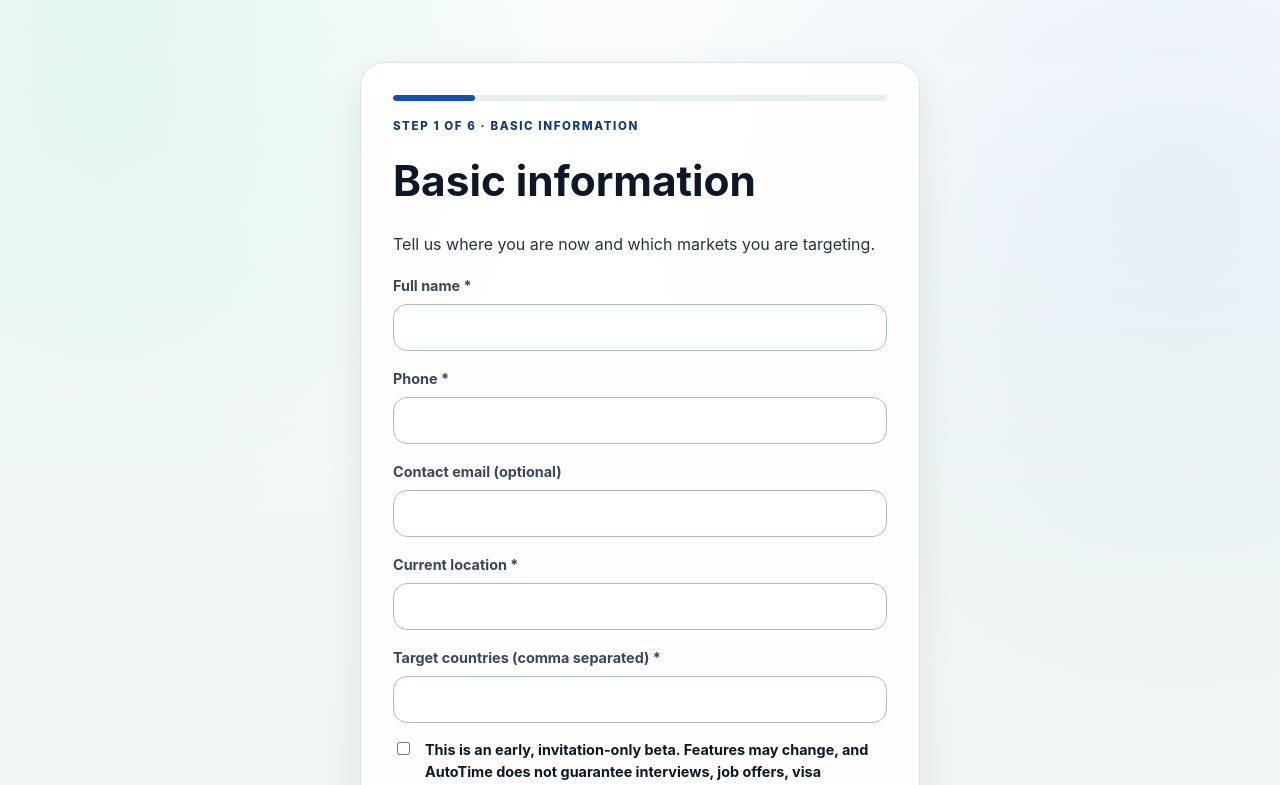
OnboardingWizard - step 0 (basic information + beta terms) › clears the beta-terms error the moment the checkbox is checked
Type "Jane Doe" into the field labelled "Full name *" at (640, 328), box [393, 304, 887, 351]
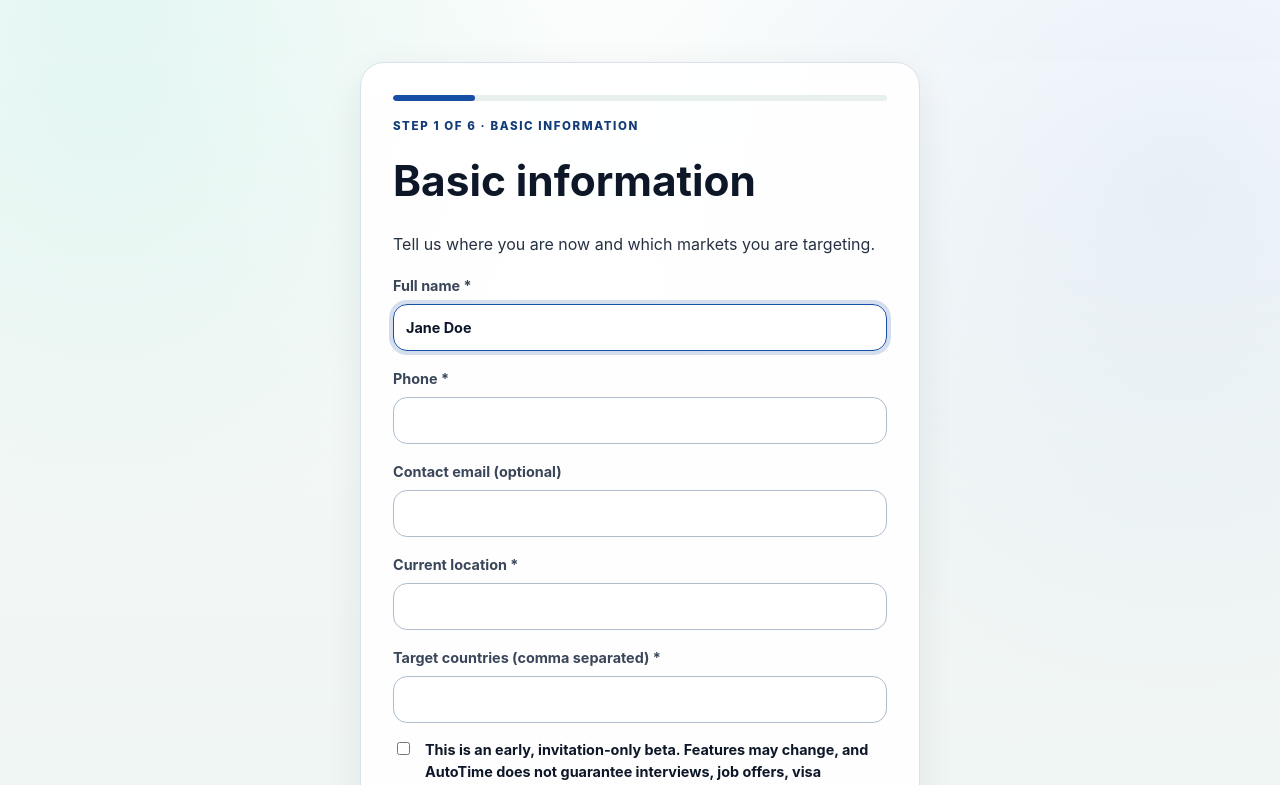
Type "+44 7700 900000" into the field labelled "Phone *" at (640, 421), box [393, 397, 887, 444]
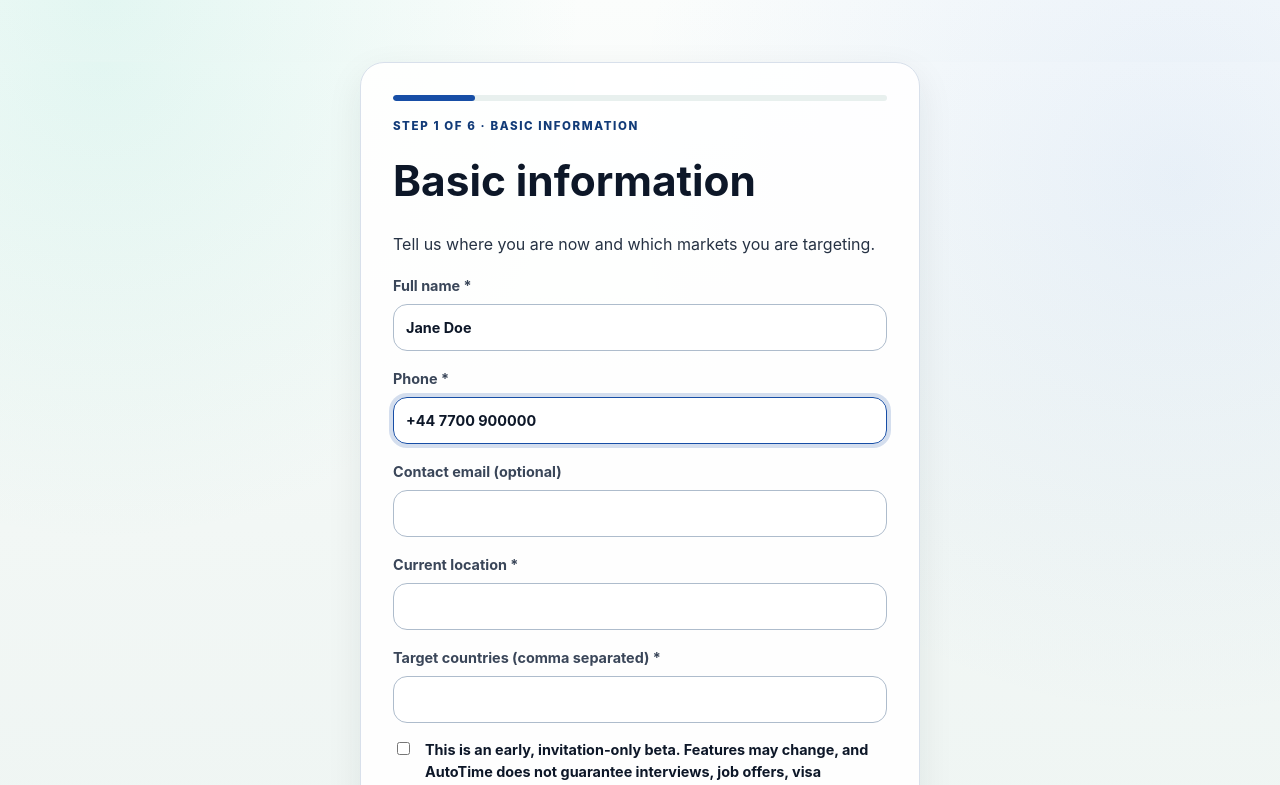
Type "London" into the field labelled "Current location *" at (640, 607), box [393, 583, 887, 630]
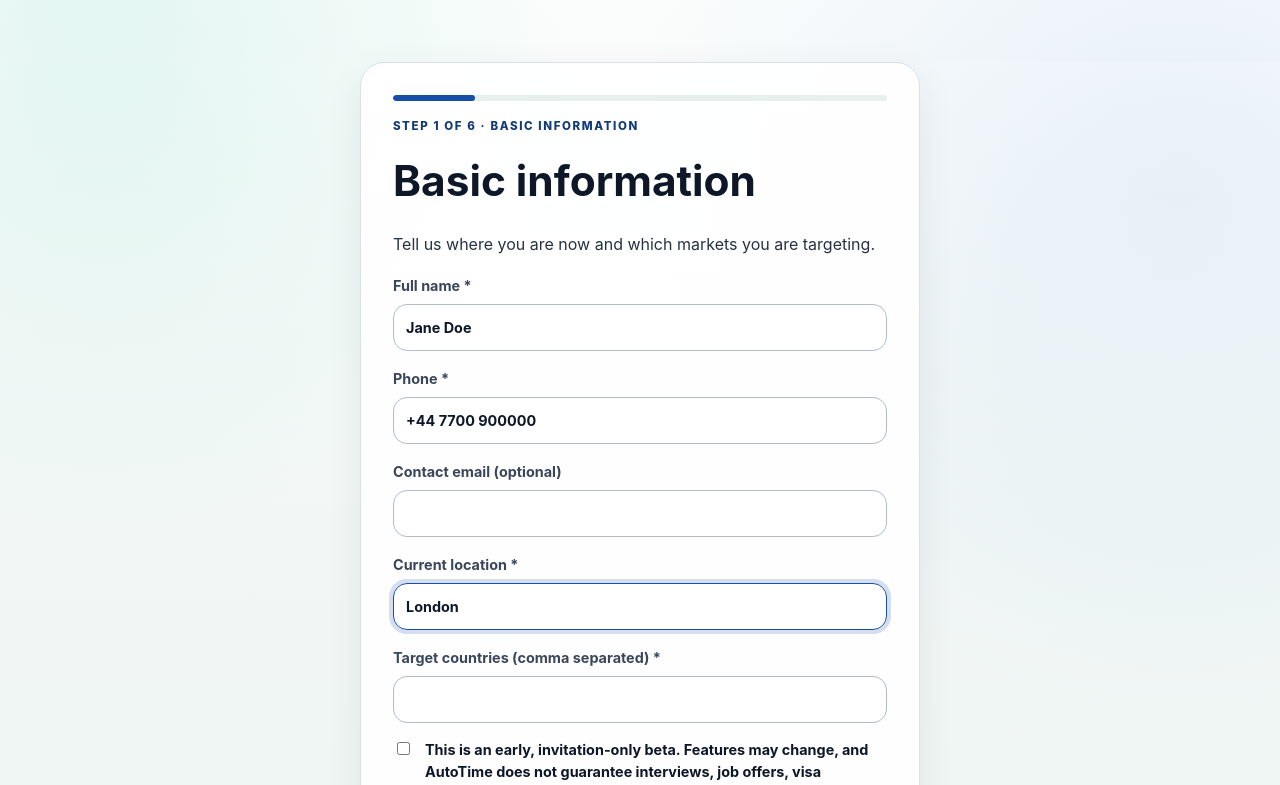
Type "Germany" into the field labelled "Target countries (comma separated) *" at (640, 700), box [393, 676, 887, 723]
(page scrolled)
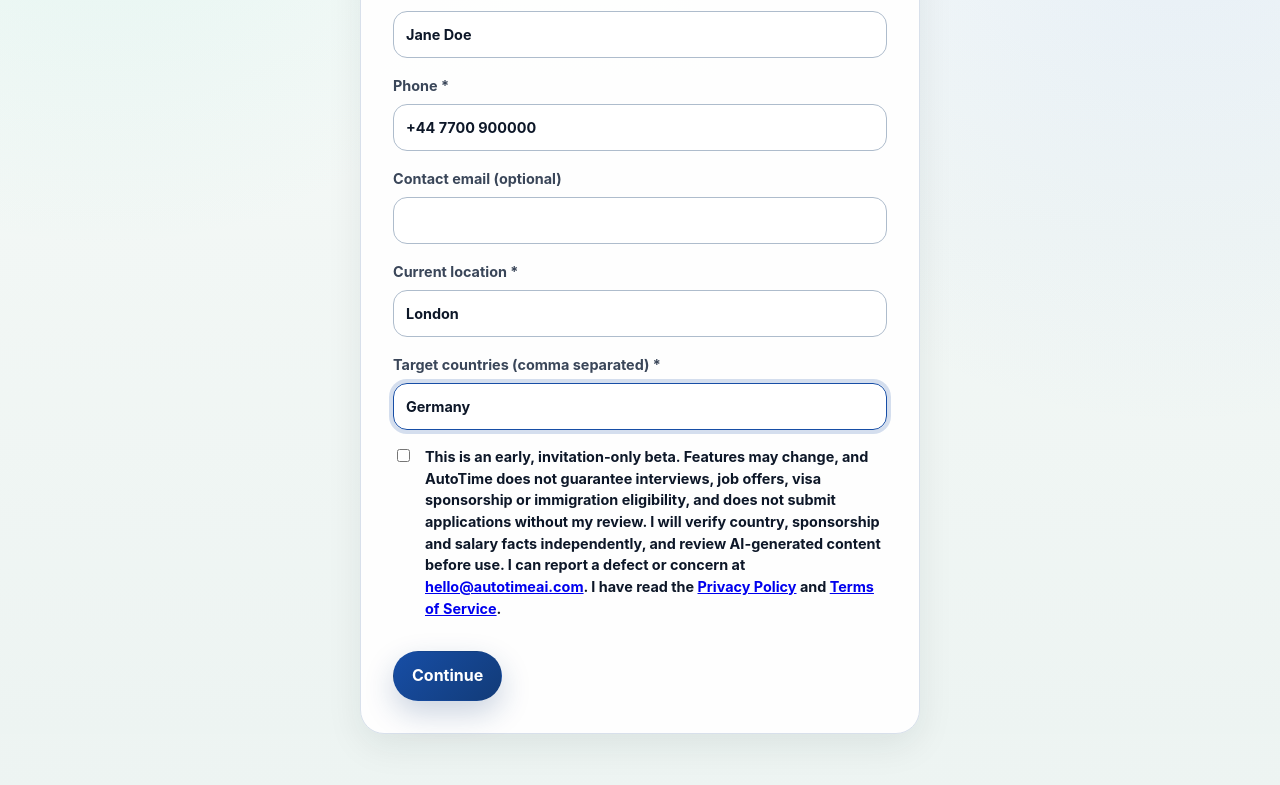
Click the button "Continue" at (448, 676), box [393, 651, 502, 701]
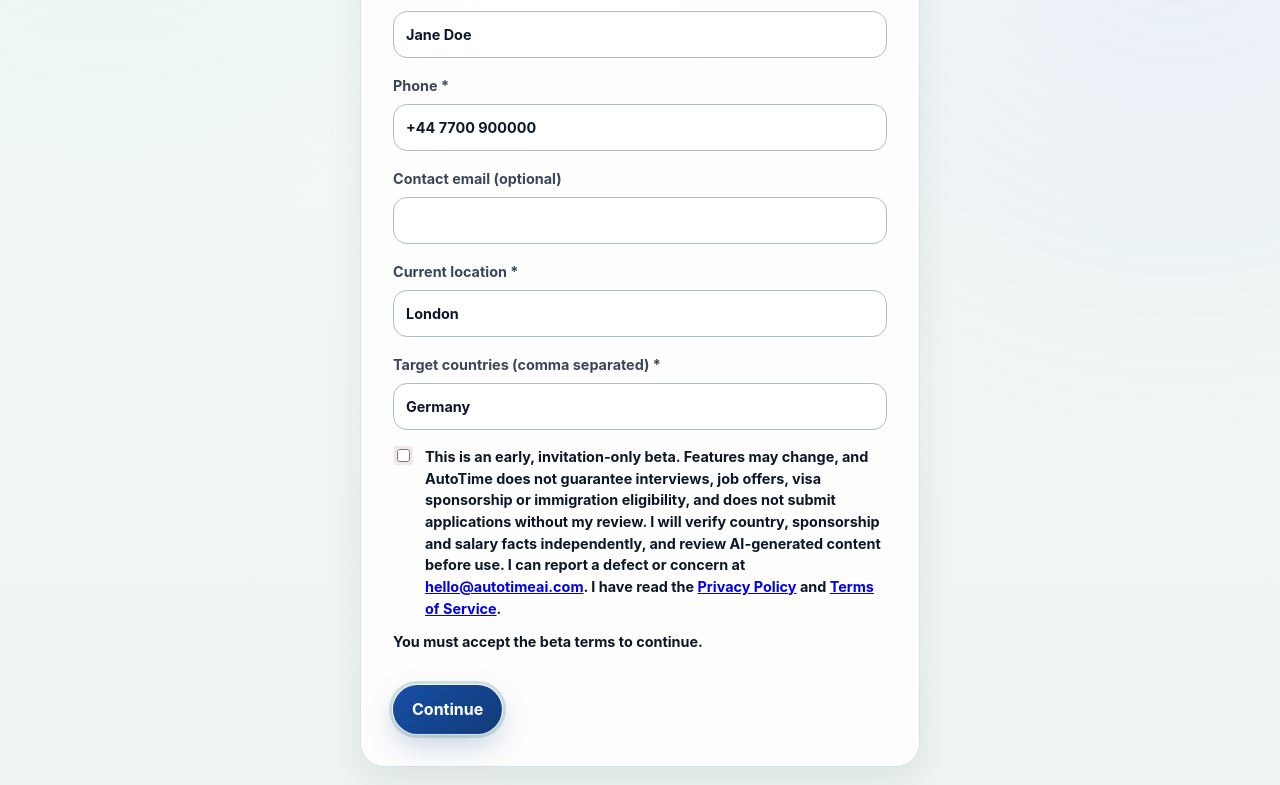
Check: the text "You must accept the beta terms to continue." is shown, box [393, 633, 703, 650]
Click the checkbox at (404, 456), box [397, 449, 410, 462]
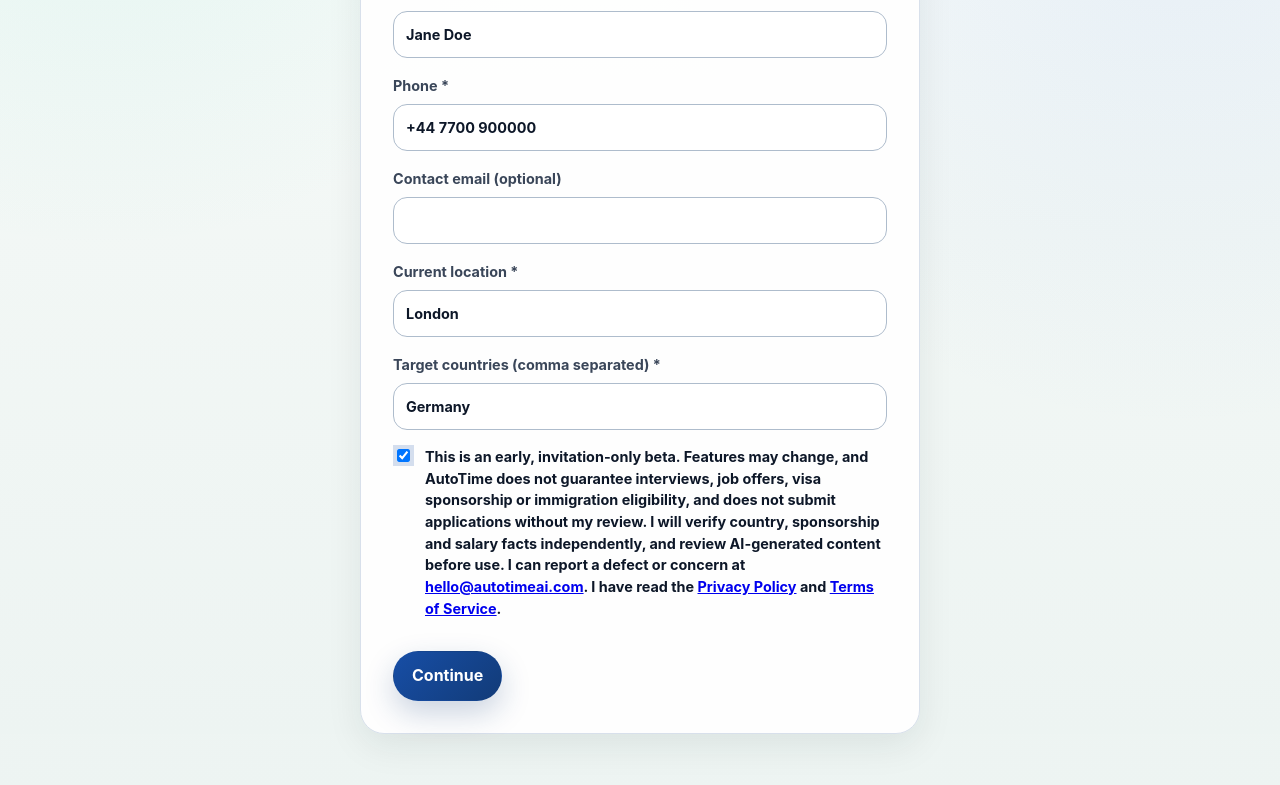
Check: the text "You must accept the beta terms to continue" is gone
